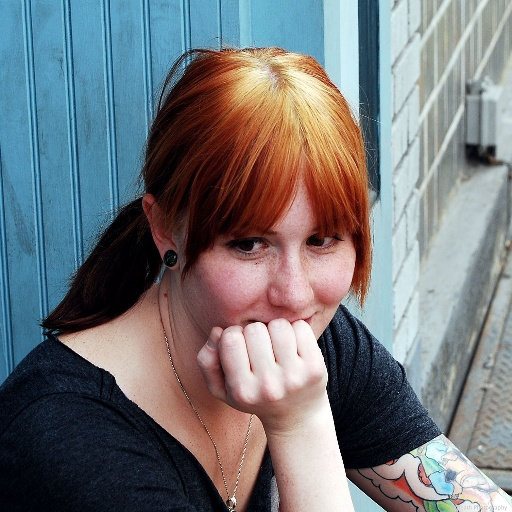hand: (208, 322, 345, 421)
